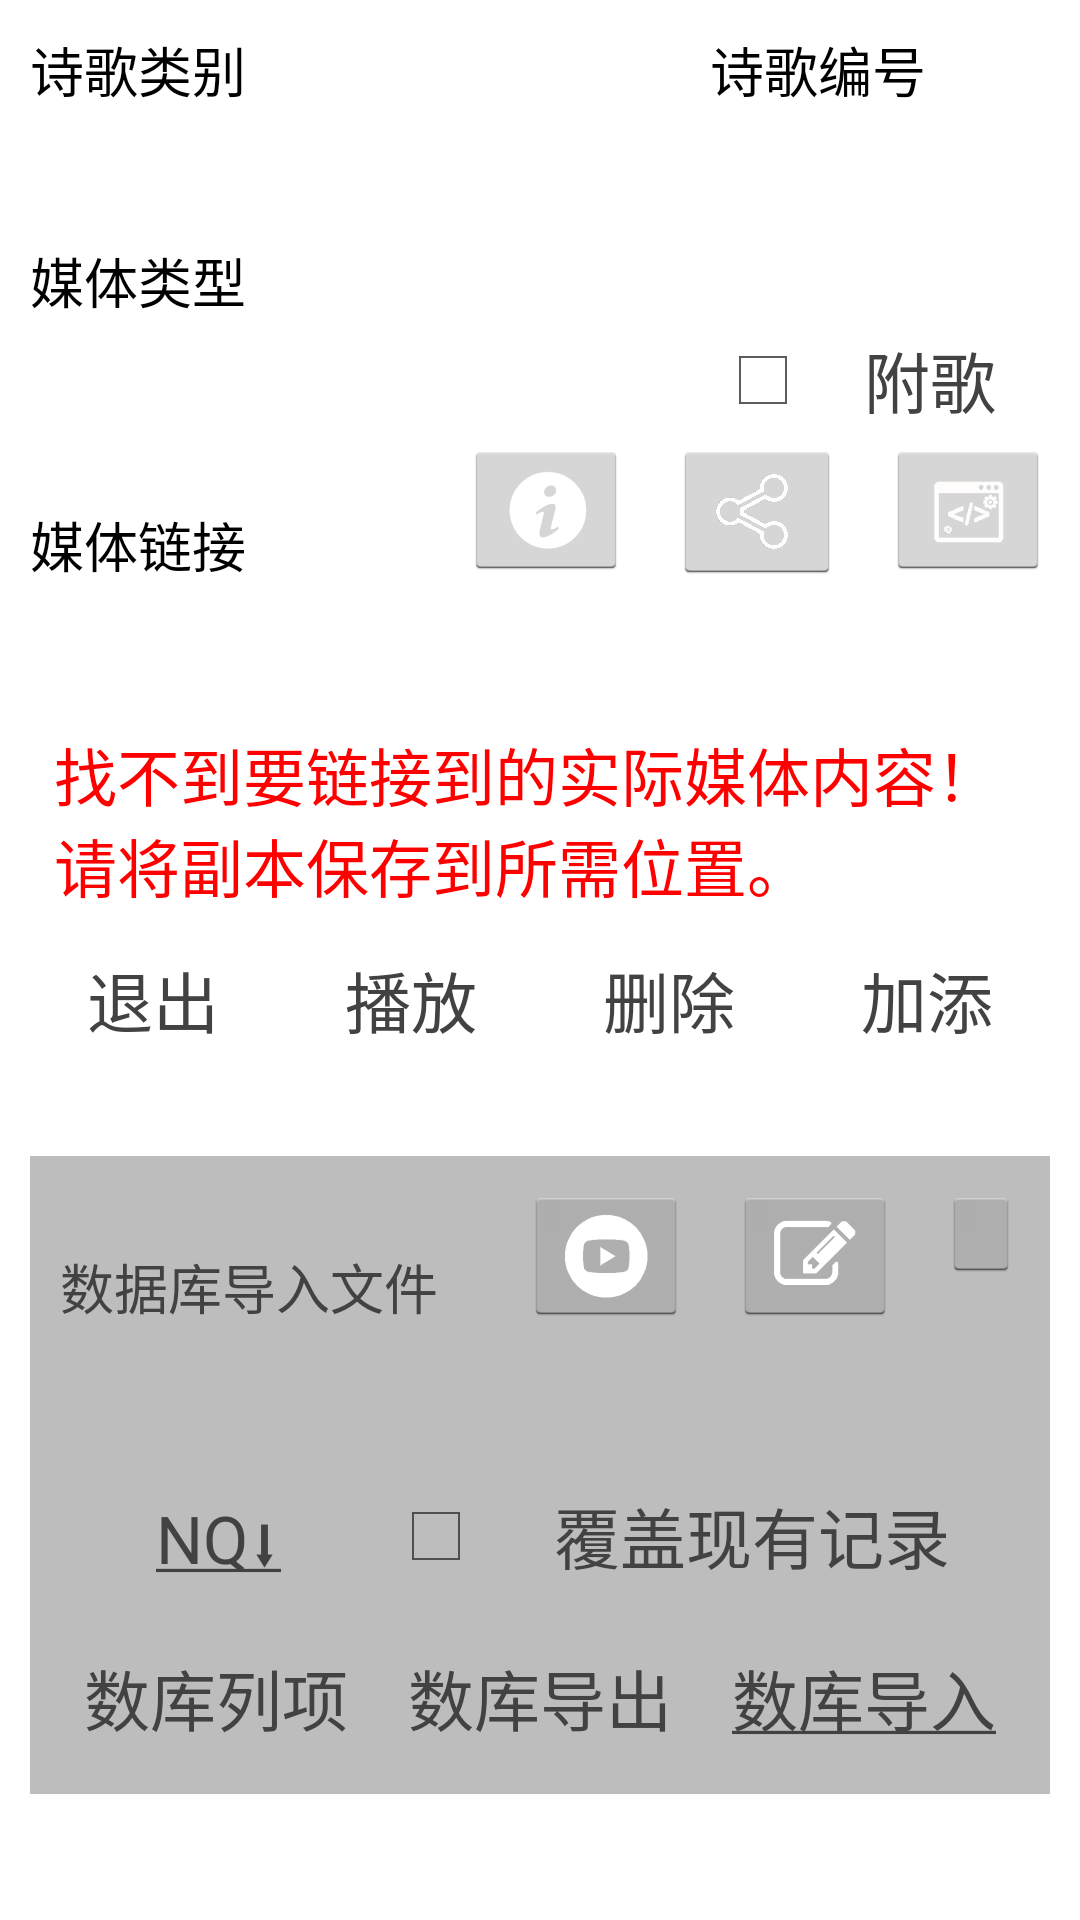

Screen size 1080 x 1920. Icon name, then its box in pixels as [x1,y1,x2,y2]:
分享歌词…: [685,453,829,573]
编辑: [744,1198,886,1316]
